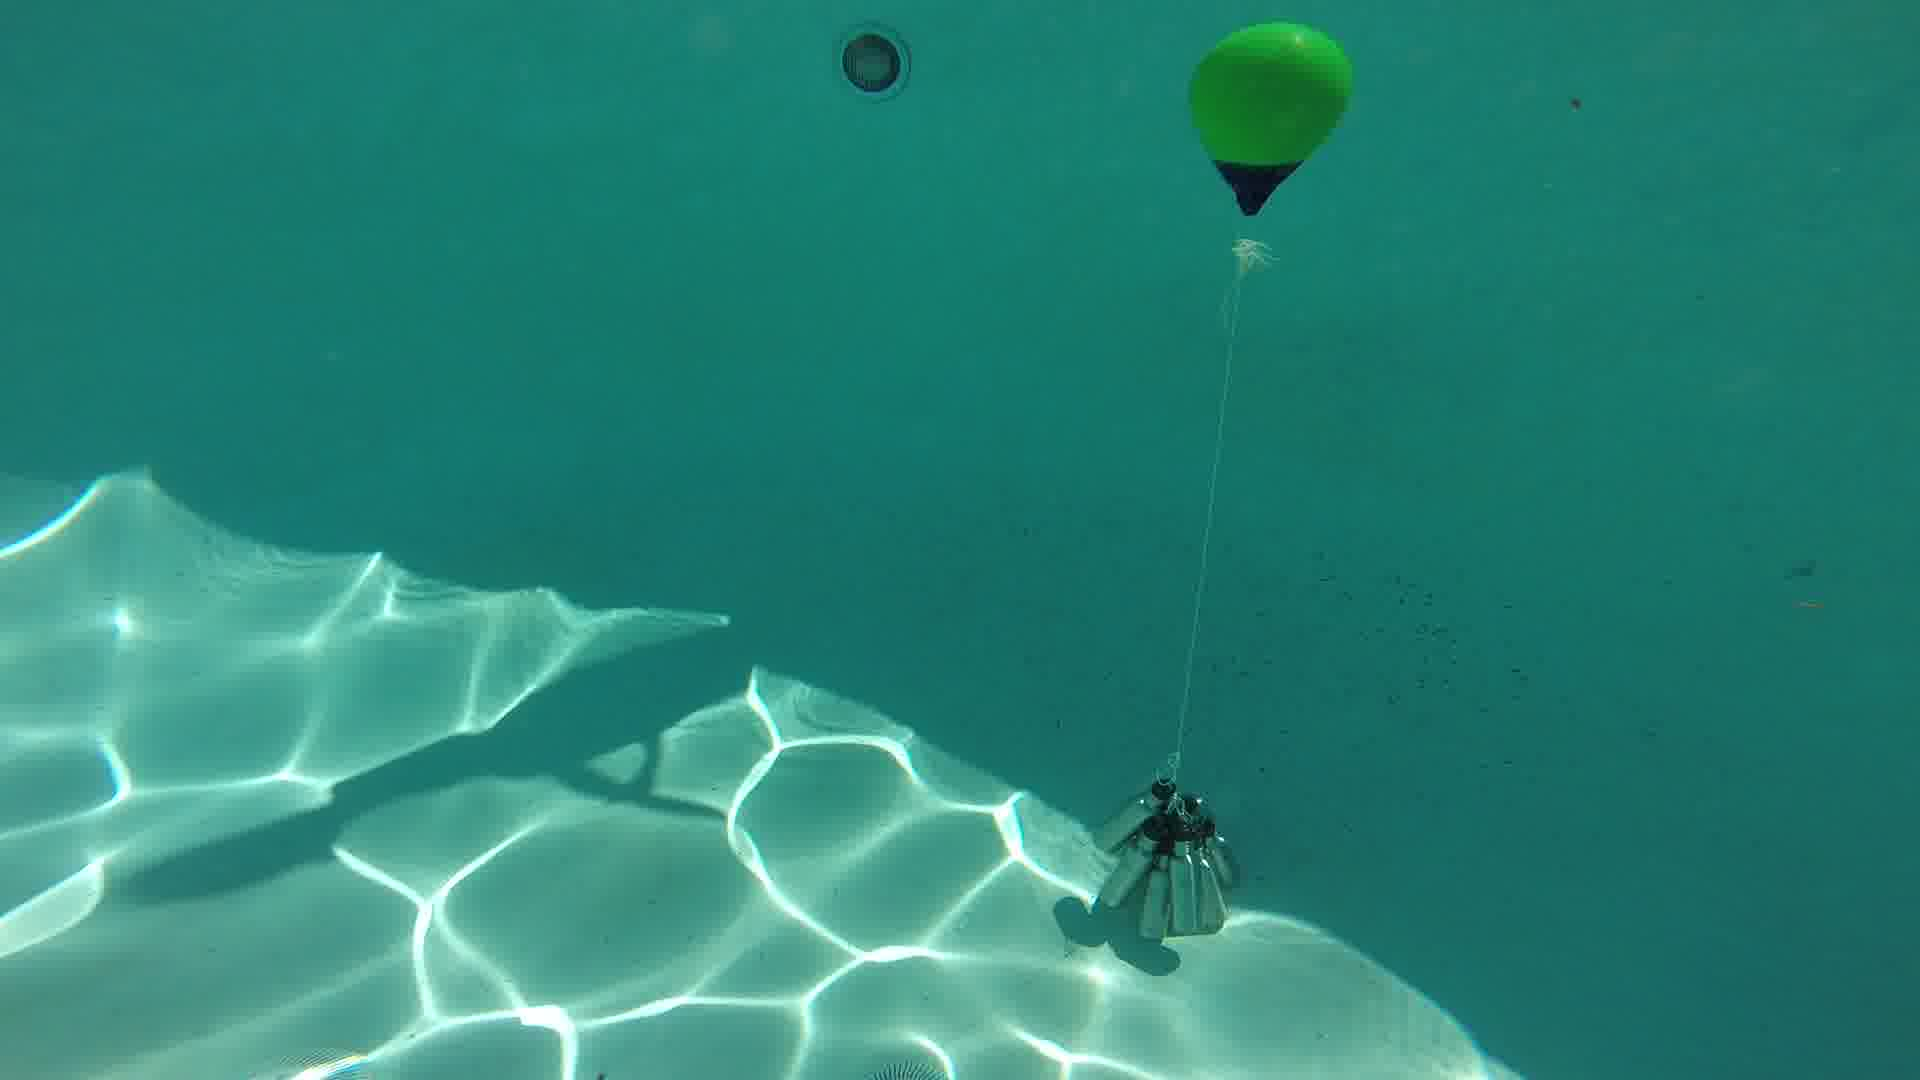yellow_buoy: (1183, 18, 1356, 222)
